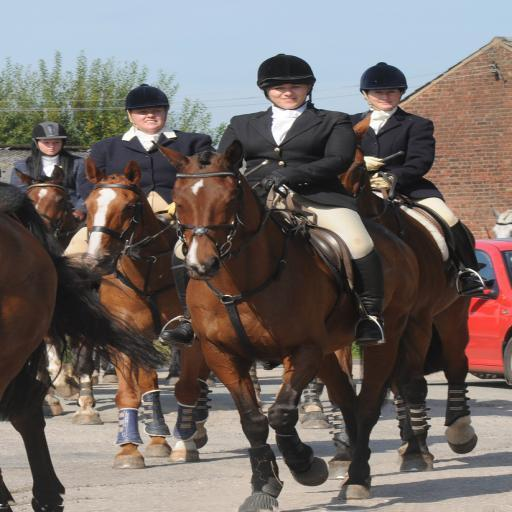horse: (0, 138, 482, 511), (488, 206, 512, 238)
